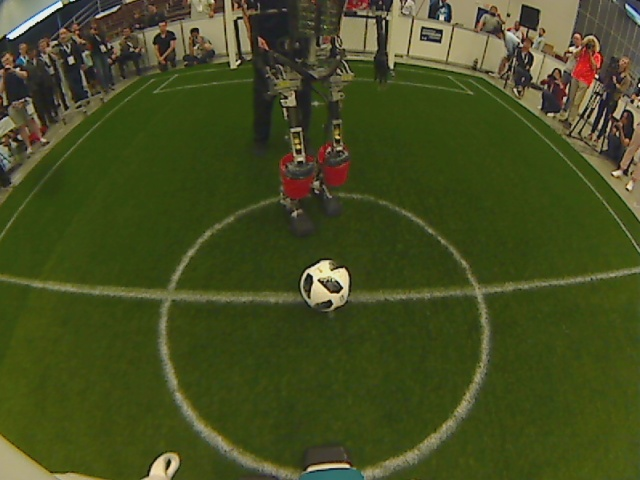ball: (300, 260, 353, 313)
